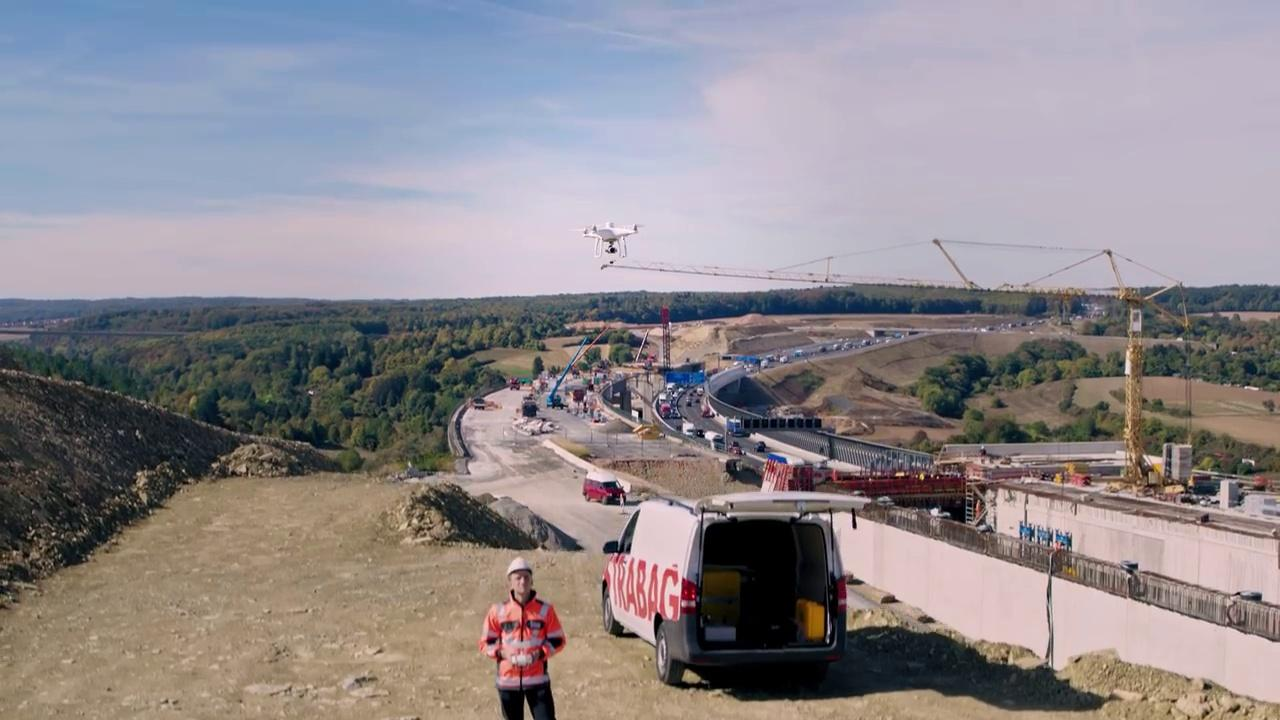drone: (577, 217, 650, 259)
